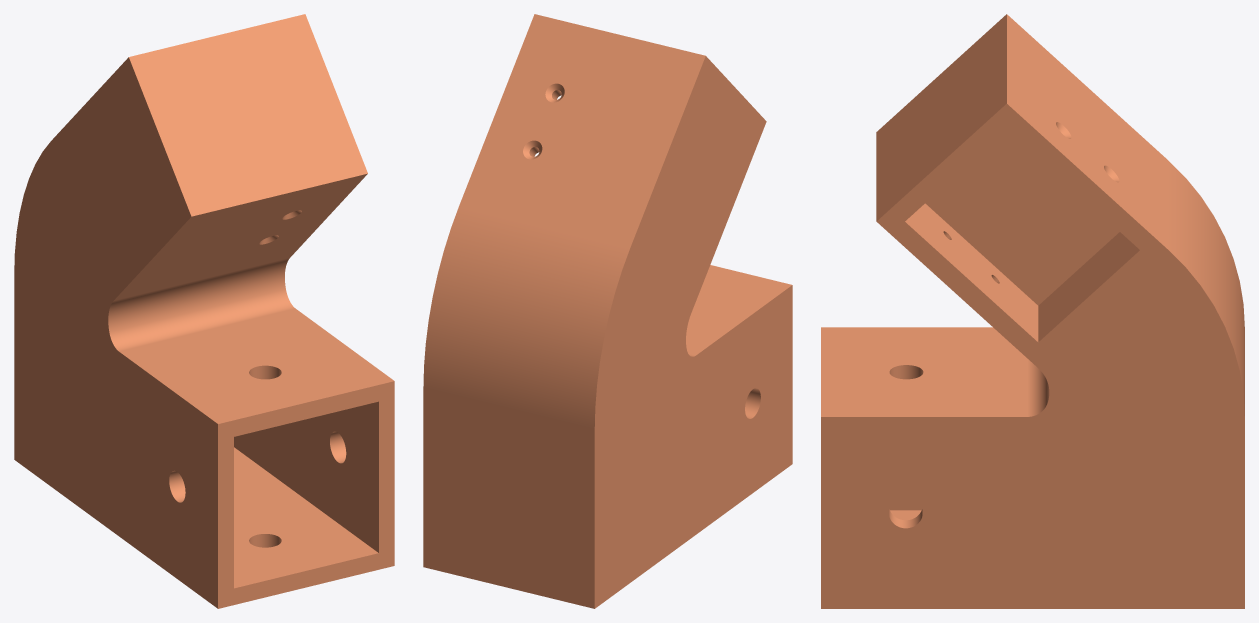
File: Right Arm - Part 4.gltf
3 views of the same model, side by side, from view 1: azimuth 30°, elevation 25°; view 2: azimuth 150°, elevation 25°; view 3: azimuth 270°, elevation 25° (orthographic). The views are drawn at different scales.
Visible parts, largest first — view 1: Part 4; view 2: Part 4; view 3: Part 4.
Boxes of the visible parts, x1,y1,x2,y2 form: Part 4: [14, 14, 394, 608]; Part 4: [423, 14, 792, 608]; Part 4: [821, 14, 1244, 608].
Bounding box in the file's own units: 0.05 × 0.1316 × 0.1.
